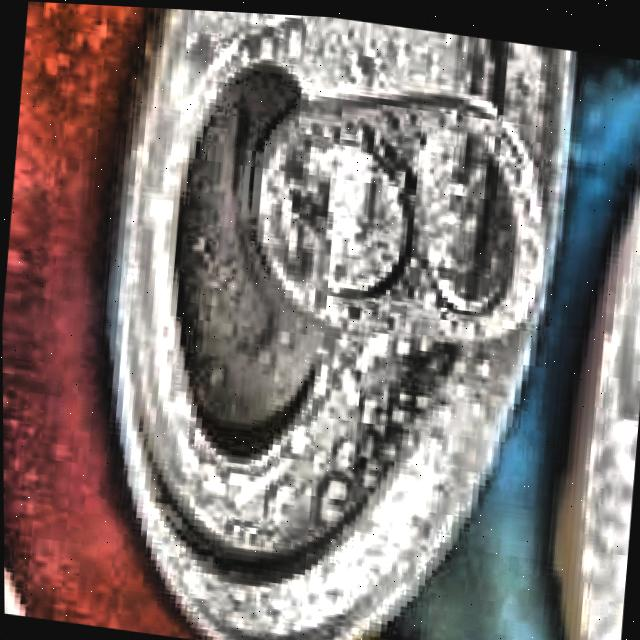metal: (107, 7, 572, 640)
